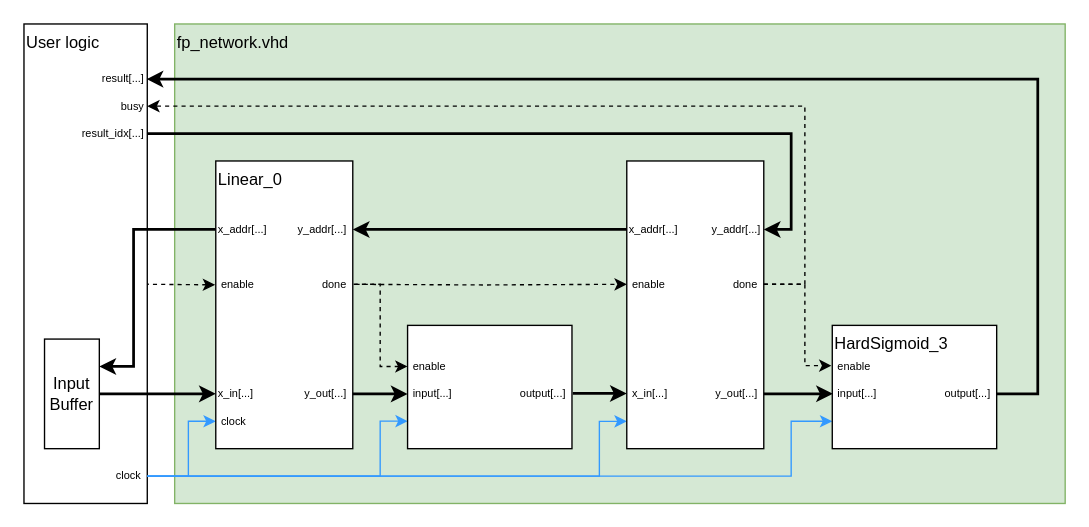
Some shapes in this 1089 by 527 pixel diagram are drawn without their labels. Each missing label, with the box of its shape:
Linear_1: (625, 160, 764, 449)
Relu_2: (406, 324, 572, 449)
